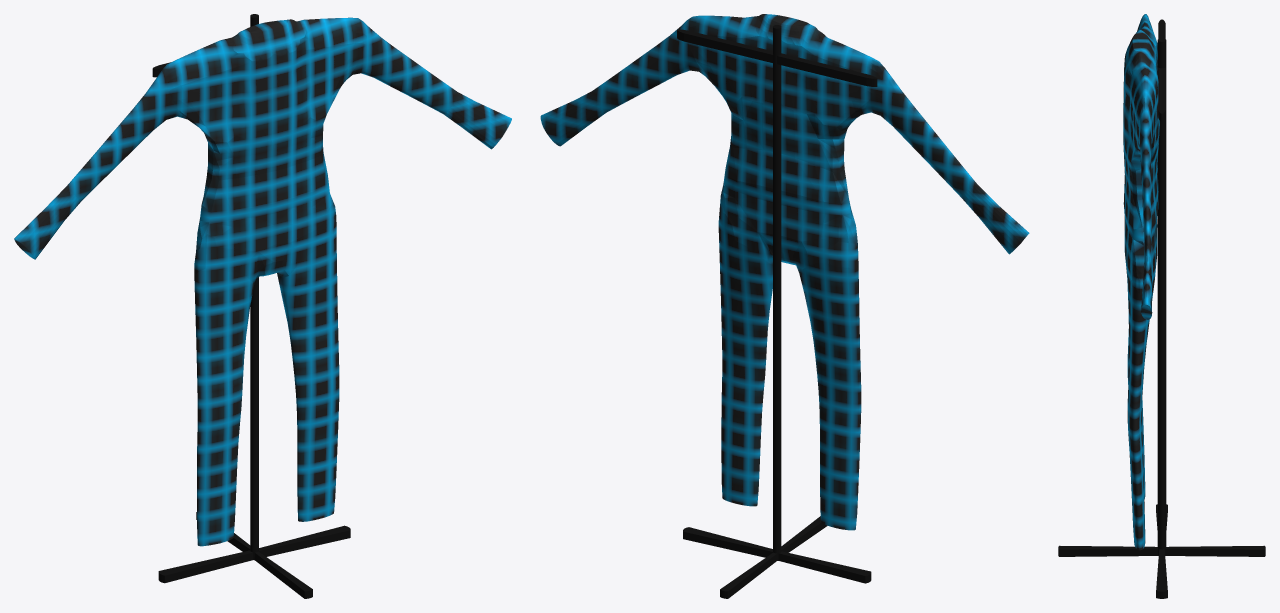
Rendered from Mocap_Suit.FBX.
3 renders of one model, left to right at view 1: azimuth 30°, elevation 25°; view 2: azimuth 150°, elevation 25°; view 3: azimuth 270°, elevation 25°, orthographic. The views are drawn at different scales.
Visible parts, largest first — view 1: Body; view 2: Body; view 3: Body.
Part boxes in pixels (box(x1,y1,x2,y2)): Body: box(14, 14, 511, 598); Body: box(540, 14, 1029, 598); Body: box(1058, 14, 1265, 598).
Bounding box in the file's own units: 131 × 137 × 50.02.
2 materials, 1 textured.
